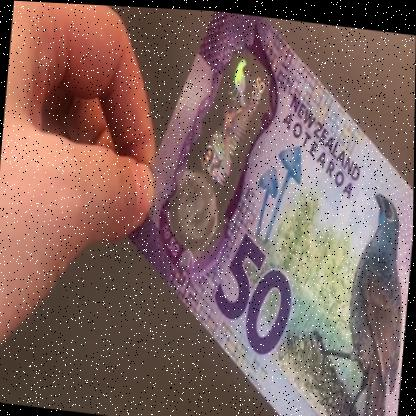50B: (168, 45, 271, 251)
